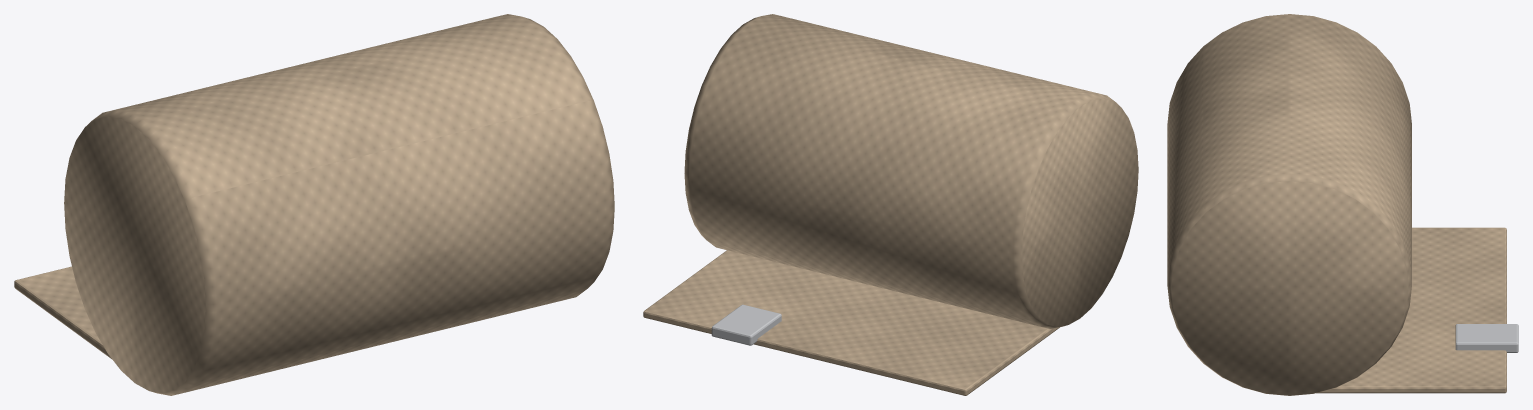
The model's file is bandage.glb.
3 renders of one model, left to right at view 1: azimuth 30°, elevation 25°; view 2: azimuth 150°, elevation 25°; view 3: azimuth 270°, elevation 25°, orthographic. The views are drawn at different scales.
Parts seen in each view (by area): view 1: roll, tail; view 2: roll, tail, clip; view 3: roll, tail, clip.
Part boxes in pixels (box(x1,y1,x2,y2)): roll: box(64, 14, 614, 395); tail: box(14, 266, 111, 358); roll: box(684, 14, 1138, 328); tail: box(643, 250, 1059, 395); clip: box(711, 304, 781, 345); roll: box(1167, 14, 1411, 395); tail: box(1316, 227, 1506, 393); clip: box(1455, 324, 1518, 352).
Bounding box in the file's own units: 0.1 × 0.062 × 0.089.
2 materials, 1 textured.
